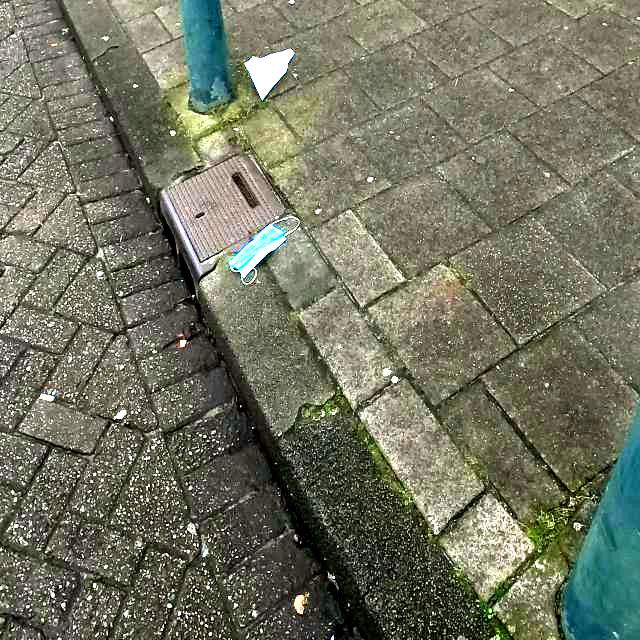Mask: (227, 215, 306, 285)
